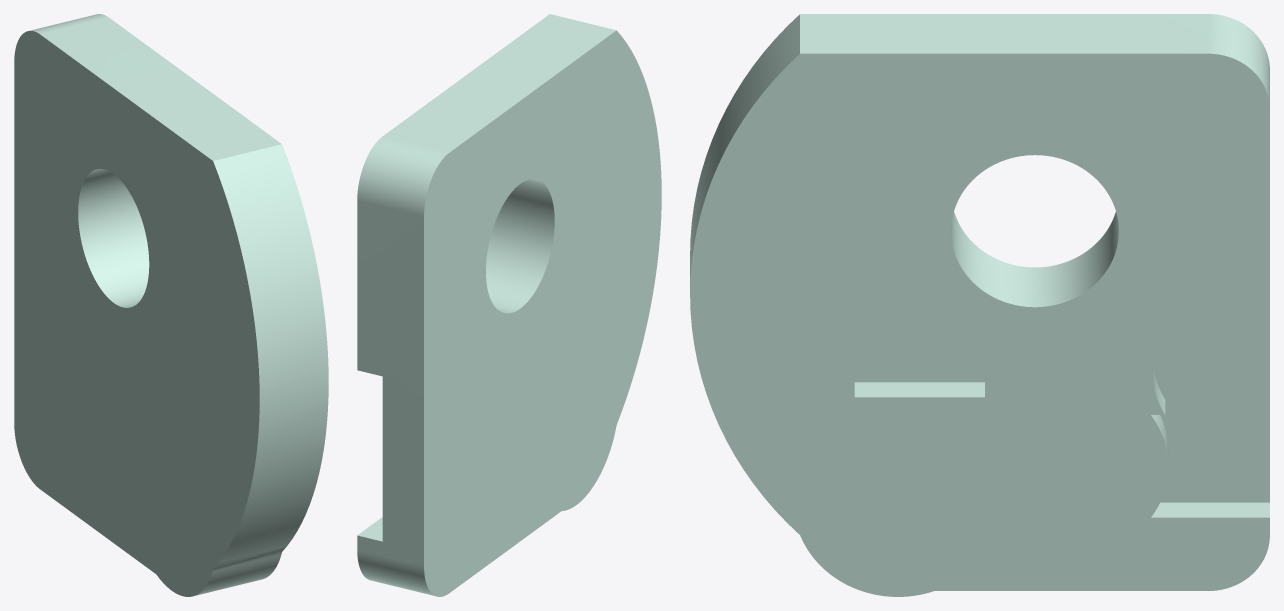
3 views of the same model, side by side, from view 1: azimuth 30°, elevation 25°; view 2: azimuth 150°, elevation 25°; view 3: azimuth 270°, elevation 25° (orthographic). The views are drawn at different scales.
Parts seen in each view (by area): view 1: Renderer Node; view 2: Renderer Node; view 3: Renderer Node.
Part boxes in pixels (bbox=[...]): Renderer Node: bbox=[14, 14, 328, 596]; Renderer Node: bbox=[357, 14, 661, 596]; Renderer Node: bbox=[690, 14, 1269, 596].
Size of the model in its own units: 0.2656 by 1.69 by 1.64.
